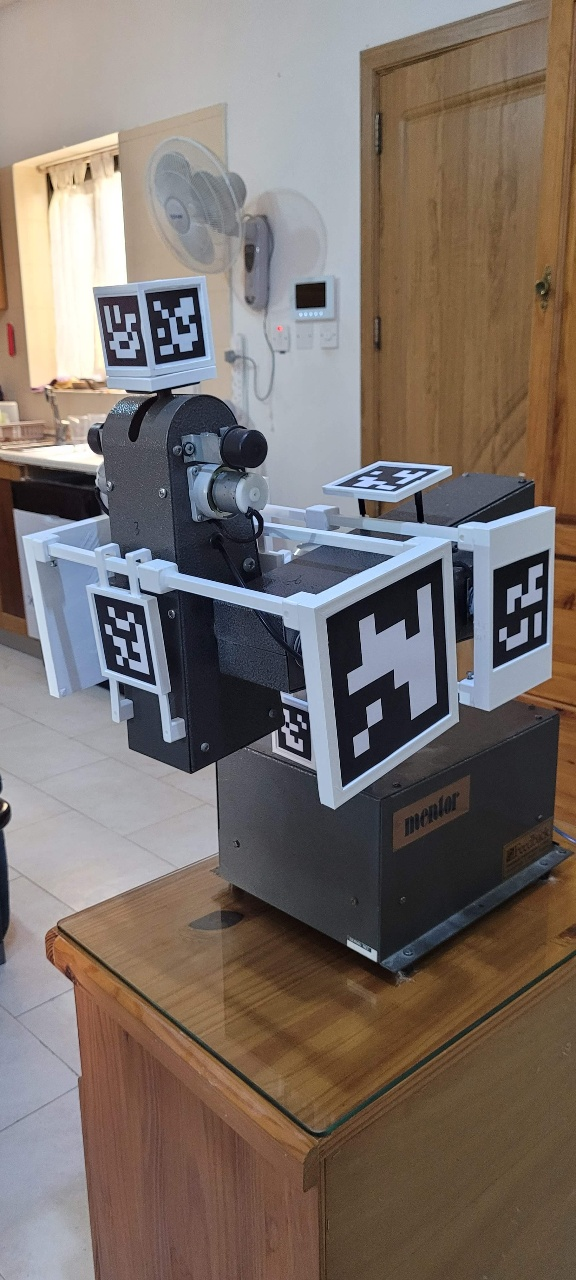Robot: (46, 157, 576, 1130)
